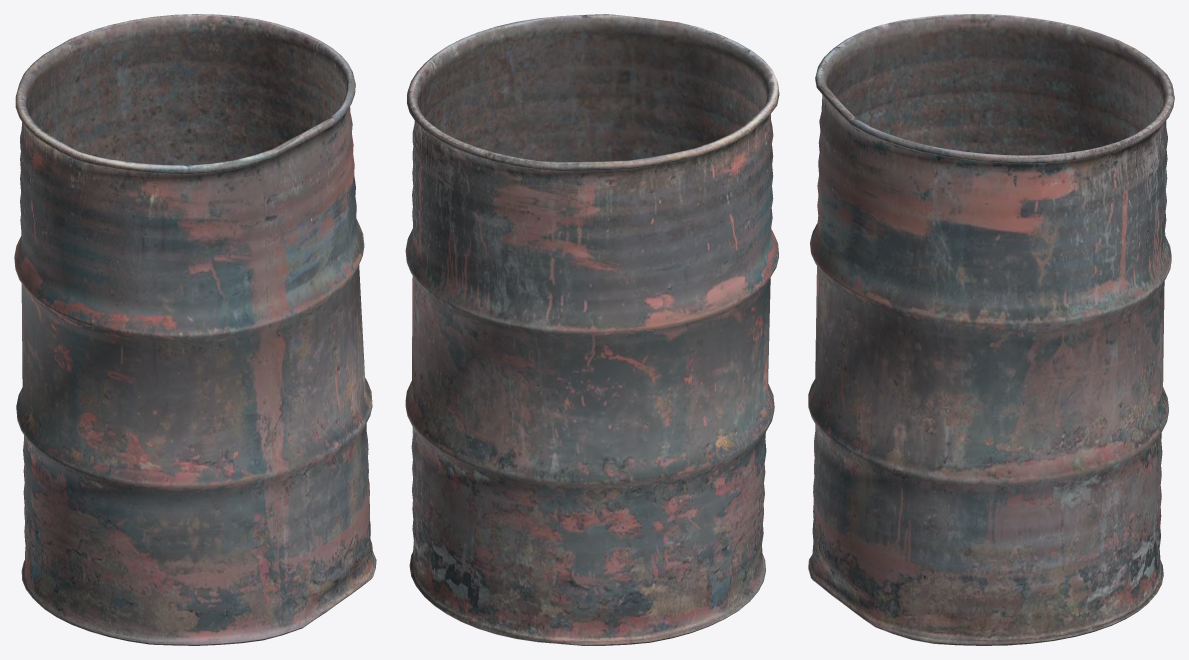
Rendered from barrel.glb.
The picture shows the model from 3 angles, left to right: view 1: azimuth 30°, elevation 25°; view 2: azimuth 150°, elevation 25°; view 3: azimuth 270°, elevation 25°; orthographic projection.
Visible parts, largest first — view 1: sud_low; view 2: sud_low; view 3: sud_low.
Part boxes in pixels (x1=…): sud_low: x1=14, y1=14, x2=376, y2=645; sud_low: x1=405, y1=14, x2=779, y2=645; sud_low: x1=808, y1=14, x2=1174, y2=645.
Size of the model in its own units: 0.6213 by 0.9339 by 0.6182.
1 material, 1 textured.
